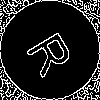R: (25, 25, 83, 79)
